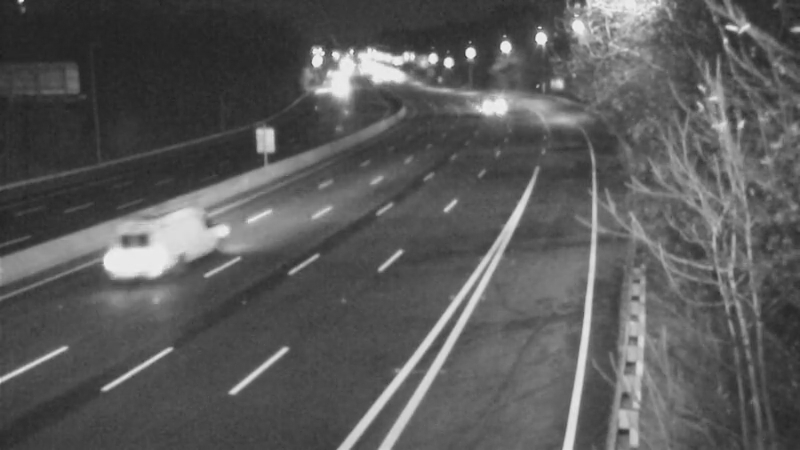vehicle: (98, 202, 178, 282), (460, 78, 510, 128)
